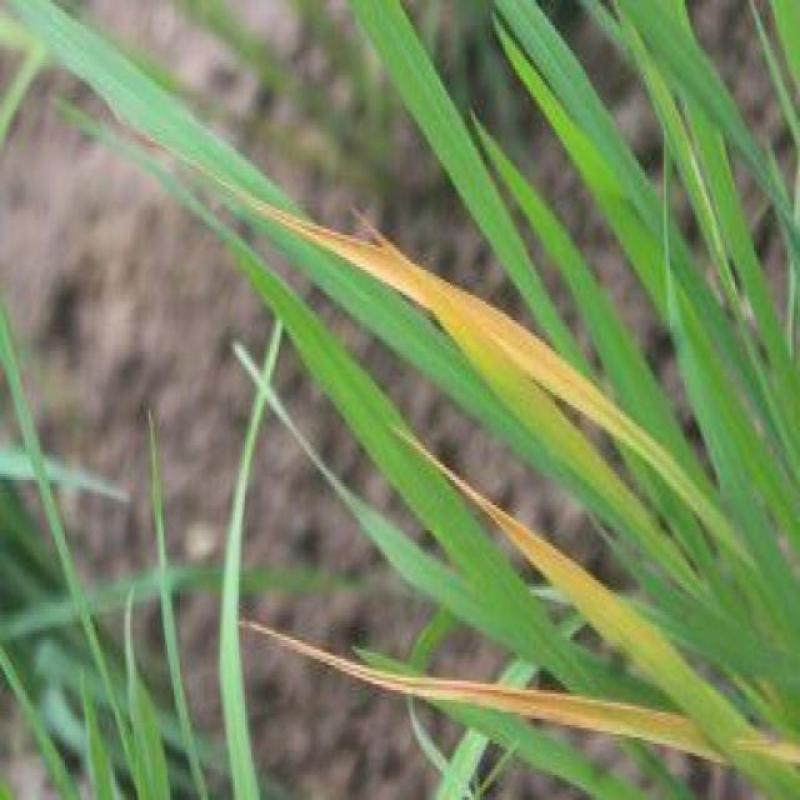Rice Tungro: (402, 665, 686, 769), (319, 210, 501, 359), (522, 319, 646, 505), (516, 518, 614, 634)
